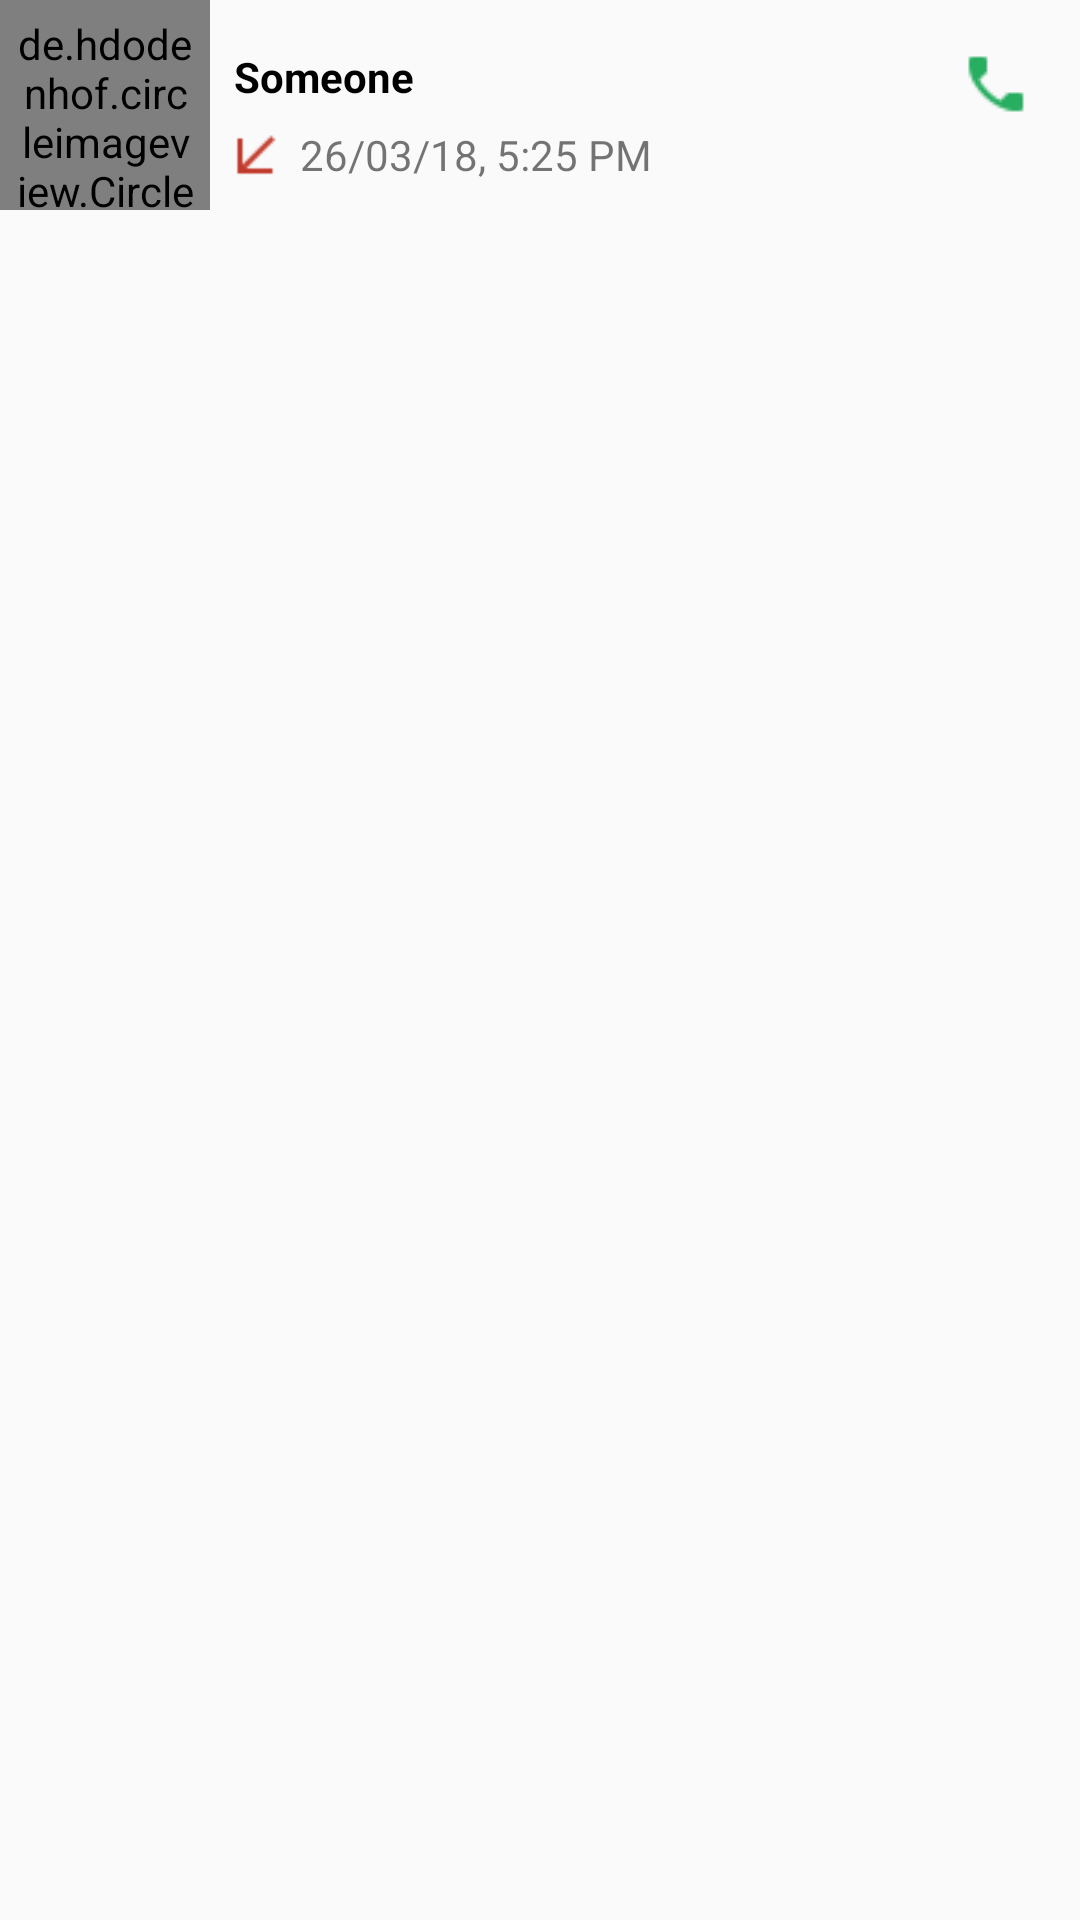

Screen size 1080×1920. Icon name, then its center in pixels as point (x, y):
missed call: point (256, 154)
phone: point (996, 84)
